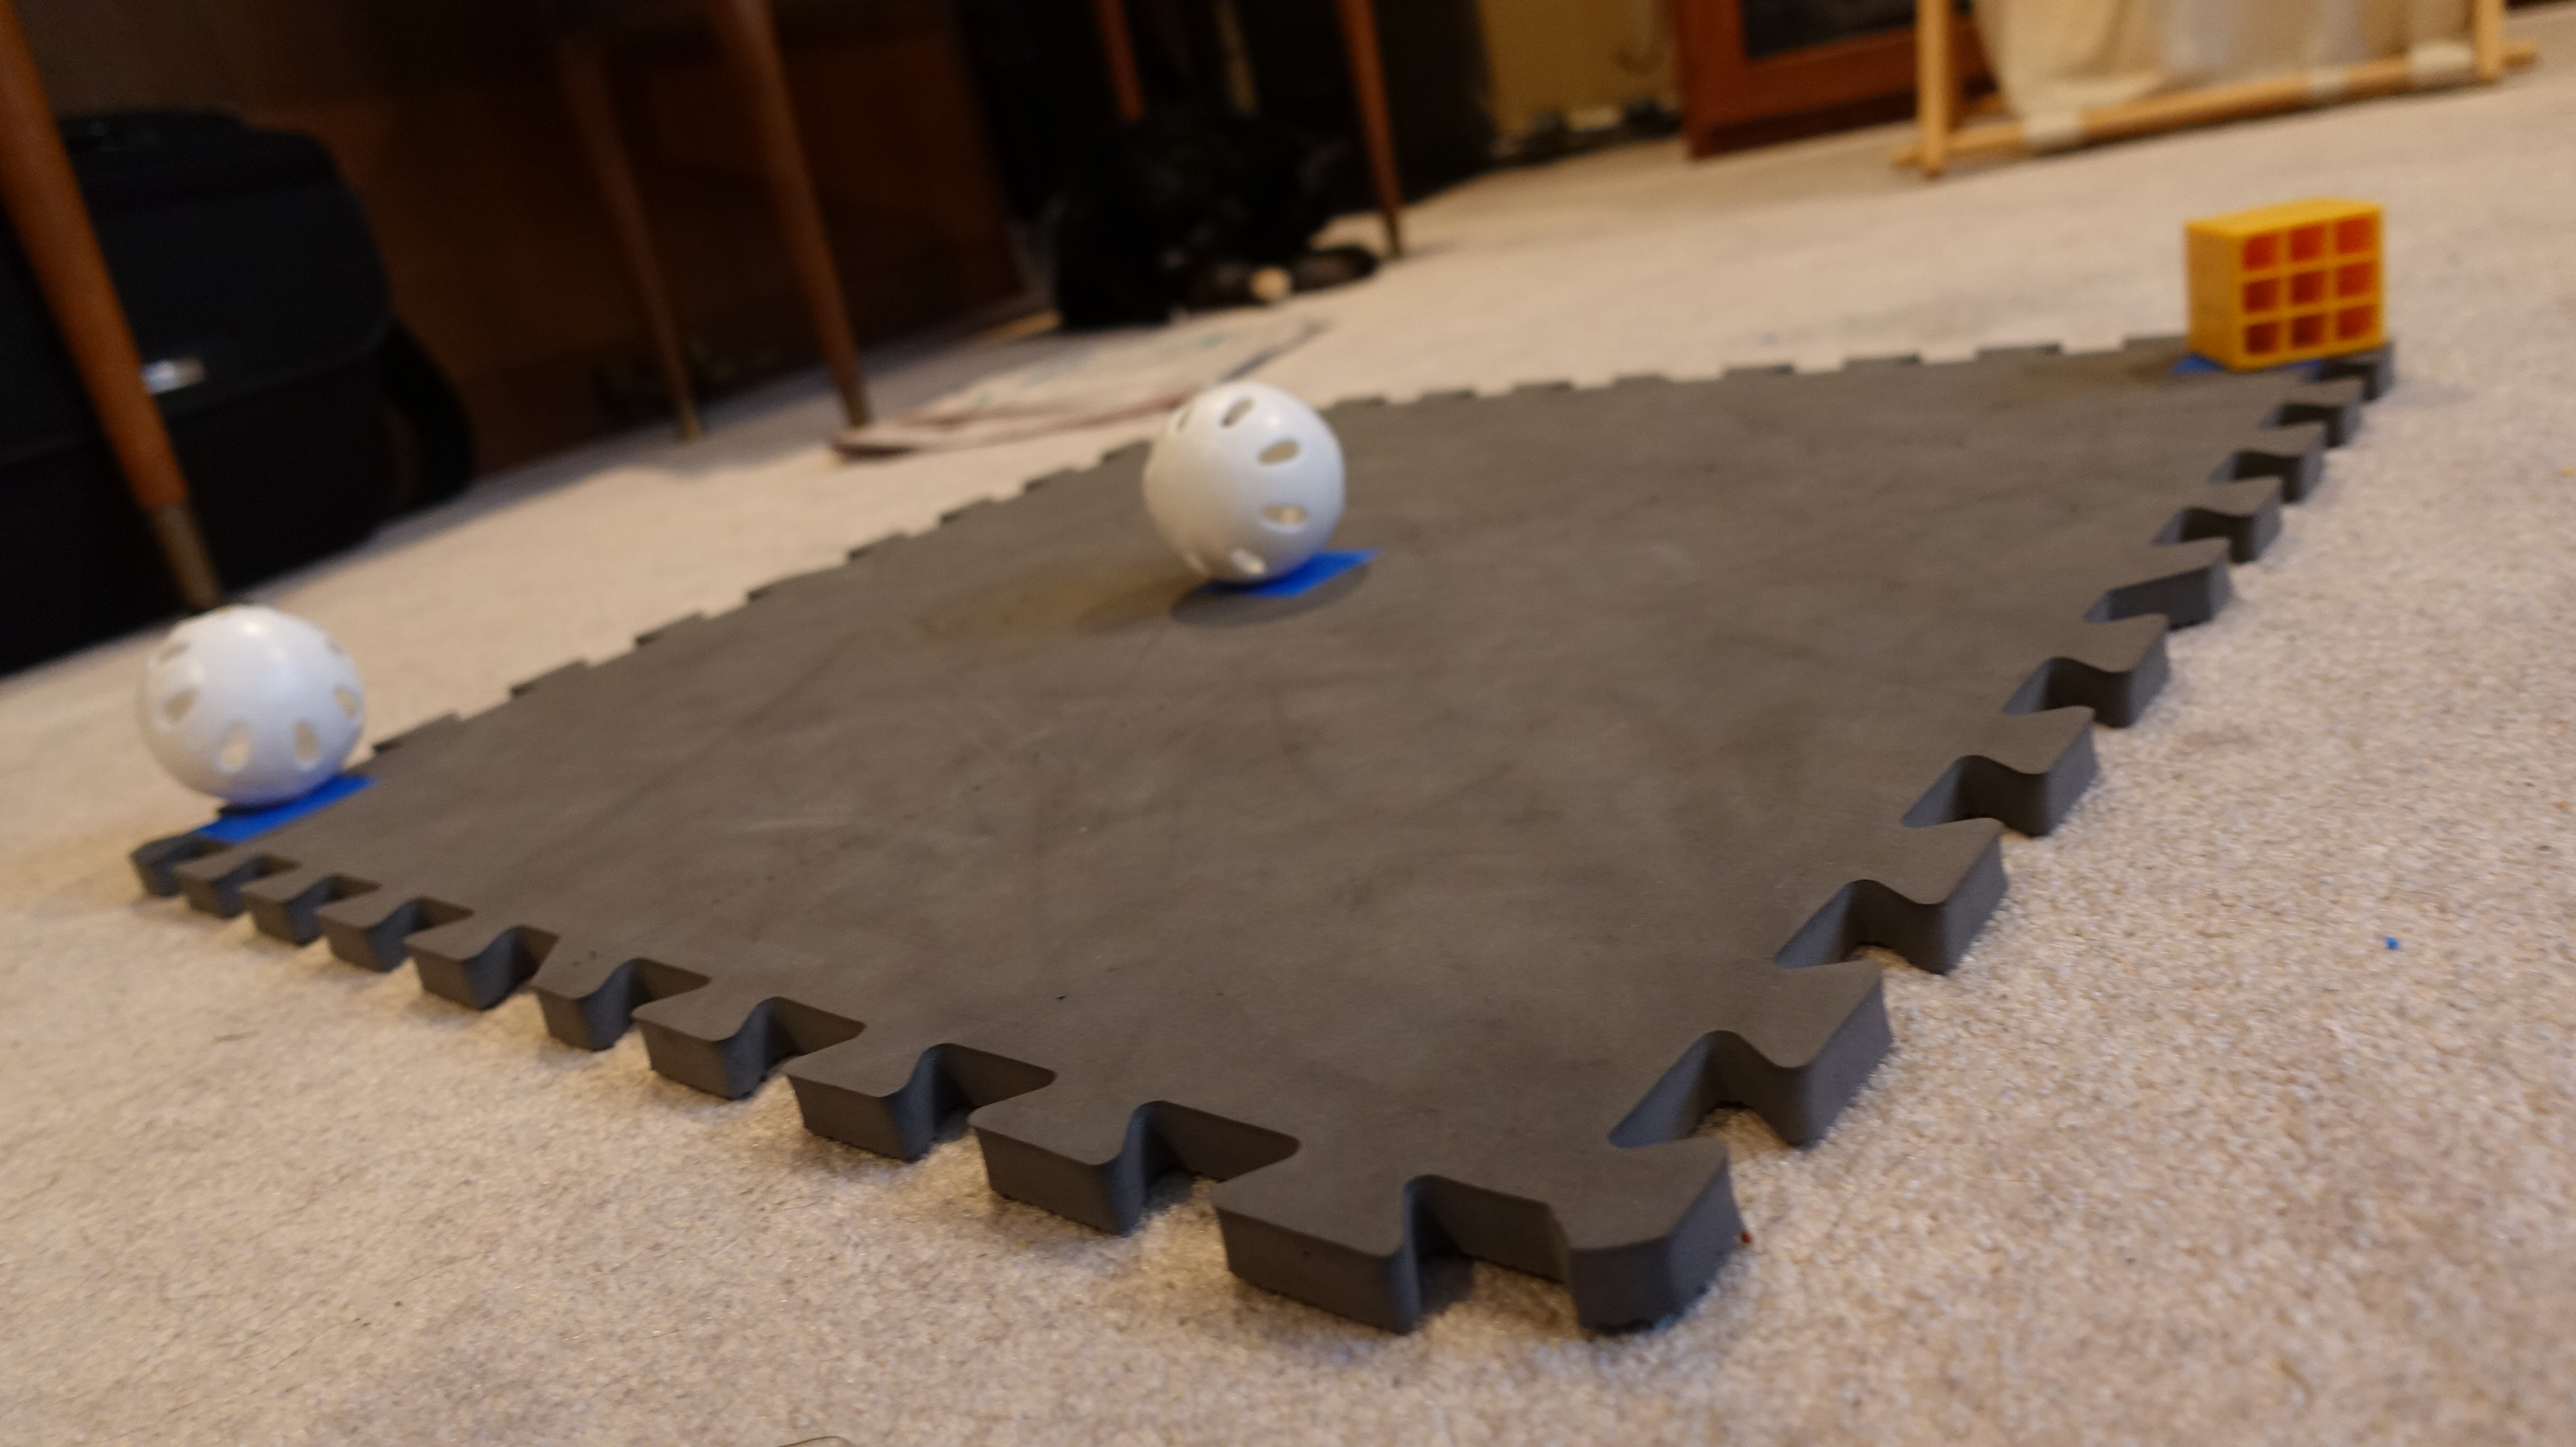gold: (2173, 188, 2396, 368)
silver: (136, 601, 370, 808), (1134, 384, 1350, 584)
